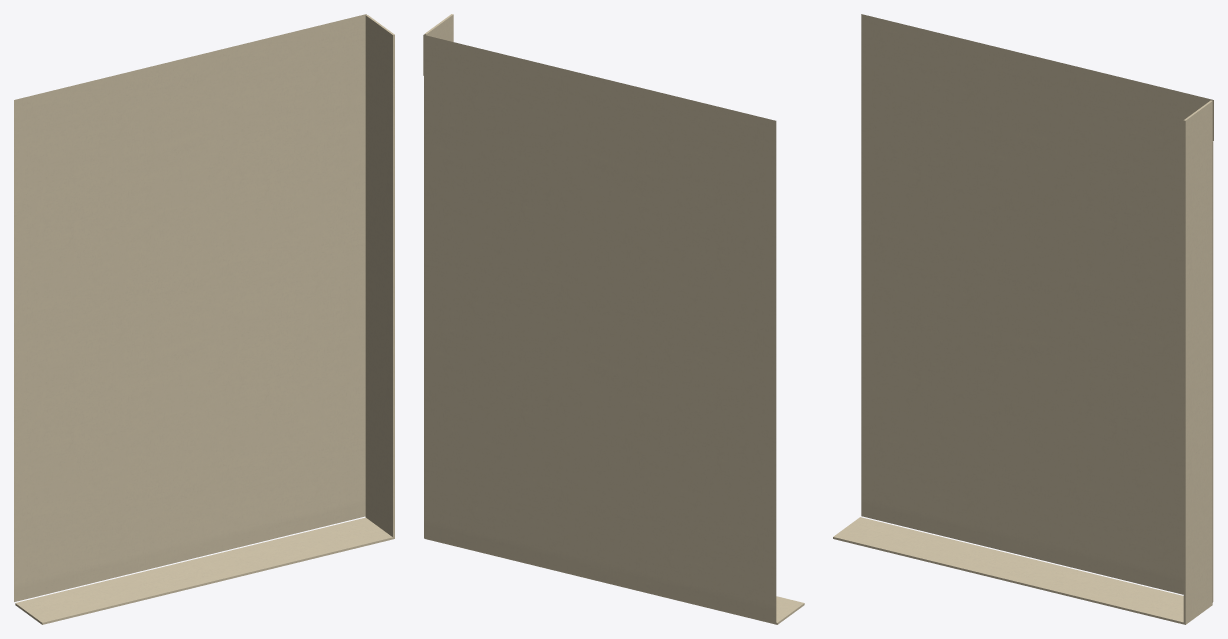
The model's file is service-south-receivers-link-south-west.glb.
3 renders of one model, left to right at view 1: azimuth 30°, elevation 25°; view 2: azimuth 150°, elevation 25°; view 3: azimuth 330°, elevation 25°, orthographic.
Visible parts, largest first — view 1: bz06_pale_lime-cast; view 2: bz06_pale_lime-cast; view 3: bz06_pale_lime-cast.
Boxes of the visible parts, <box> form: bz06_pale_lime-cast: <box>14,14,394,624</box>; bz06_pale_lime-cast: <box>423,14,804,624</box>; bz06_pale_lime-cast: <box>833,14,1213,624</box>.
Bounding box in the file's own units: 3.6 × 4.92 × 0.5.
Materials: 1 (1 with a texture image).
